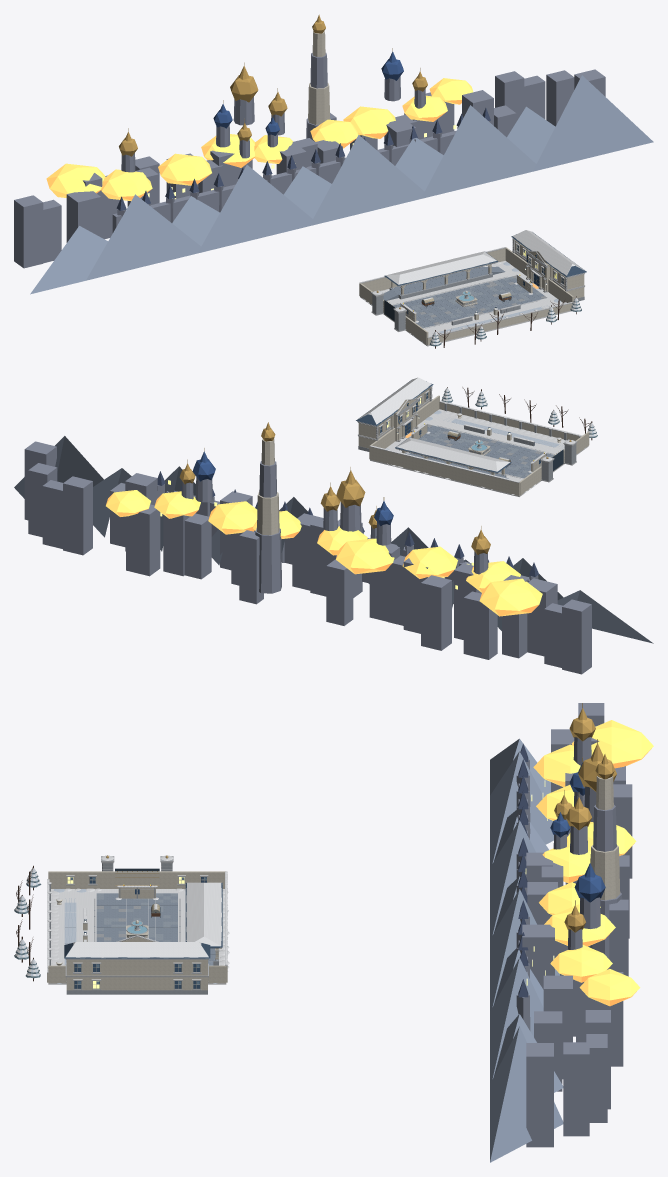
Rendered from frostcourt_visual.glb.
3 renders of one model, top to bottom at view 1: azimuth 30°, elevation 25°; view 2: azimuth 150°, elevation 25°; view 3: azimuth 270°, elevation 25°, orthographic. The views are drawn at different scales.
Visible parts, largest first — view 1: DETAIL_chapter_craft, VIS_court_floor, VIS_boundary_z_24, VIS_boundary_x_30, VIS_boundary_x_-30; view 2: DETAIL_chapter_craft, VIS_boundary_z_-24, VIS_court_floor, VIS_boundary_z_24, VIS_boundary_x_30, VIS_boundary_x_-30; view 3: DETAIL_chapter_craft, VIS_boundary_x_-30, VIS_court_floor, VIS_boundary_x_30.
Boxes of the visible parts, x1,y1,x2,y2 form: DETAIL_chapter_craft: (14,14,653,348); VIS_court_floor: (360,260,571,346); VIS_boundary_z_24: (427,303,572,345); VIS_boundary_x_30: (505,247,573,302); VIS_boundary_x_-30: (359,283,428,344); DETAIL_chapter_craft: (14,377,653,674); VIS_boundary_z_-24: (369,447,519,495); VIS_court_floor: (370,409,588,496); VIS_boundary_z_24: (439,402,578,440); VIS_boundary_x_30: (369,395,439,458); VIS_boundary_x_-30: (519,432,589,495); DETAIL_chapter_craft: (14,703,653,1162); VIS_boundary_x_-30: (48,871,225,888); VIS_court_floor: (48,889,226,984); VIS_boundary_x_30: (48,965,226,983).
Size of the model in its own units: 257 by 67.8 by 172.
Materials: 42 (18 with a texture image).
